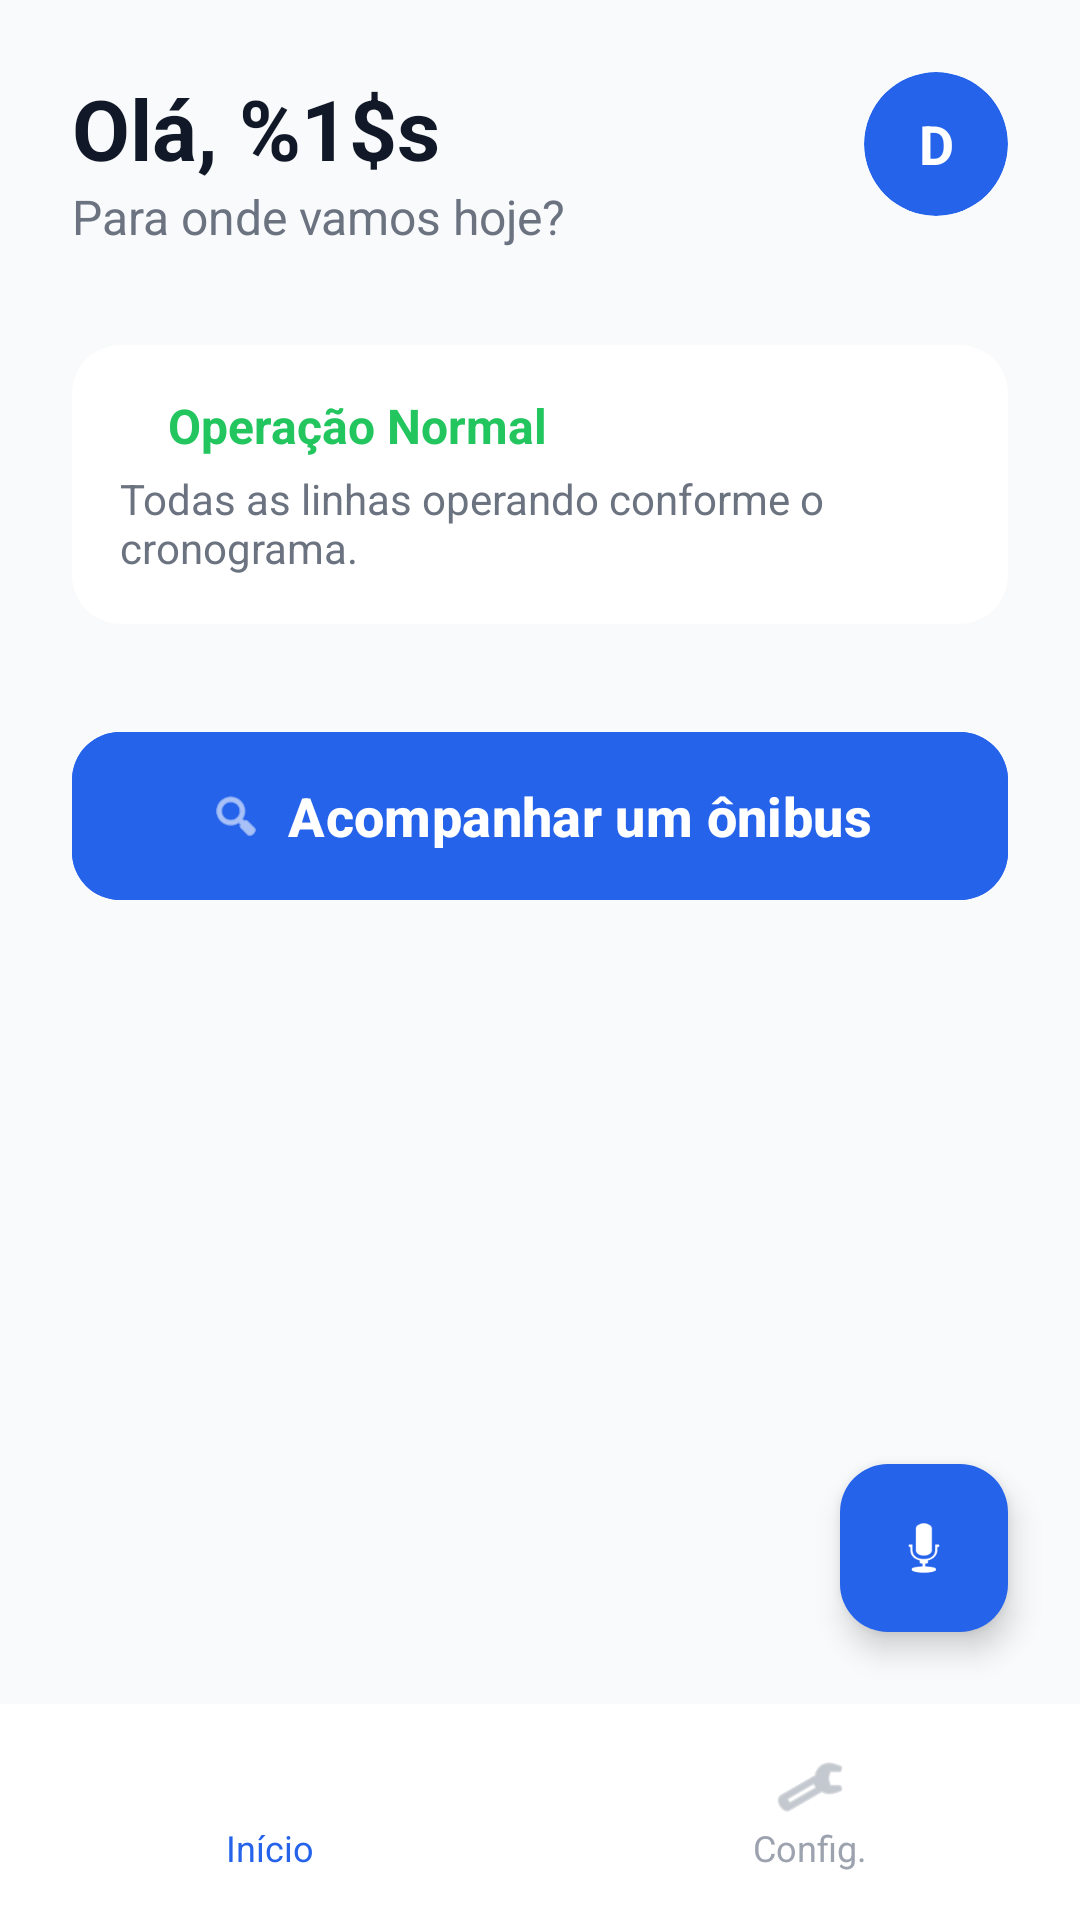

Named icons in this screenshot (1080px×1920px) and their centers, [x,y]:
speak now: [924,1548]
